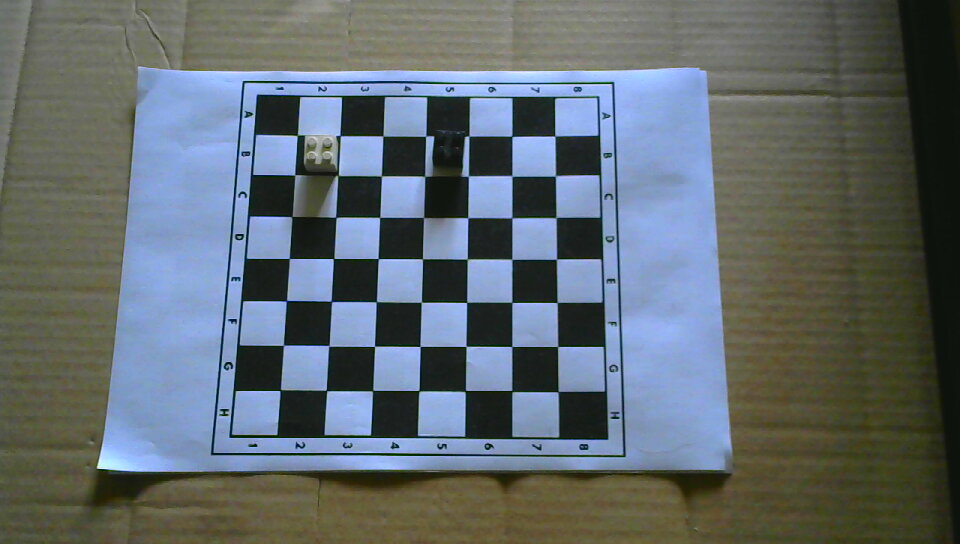bp: (432, 128, 466, 171)
wp: (304, 133, 340, 173)
